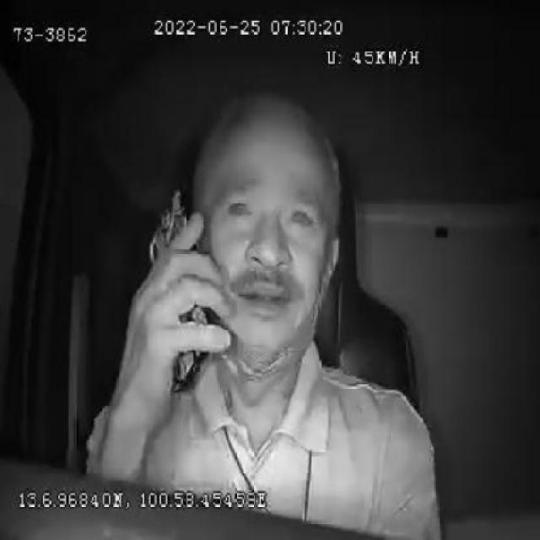phone: (144, 186, 215, 386)
